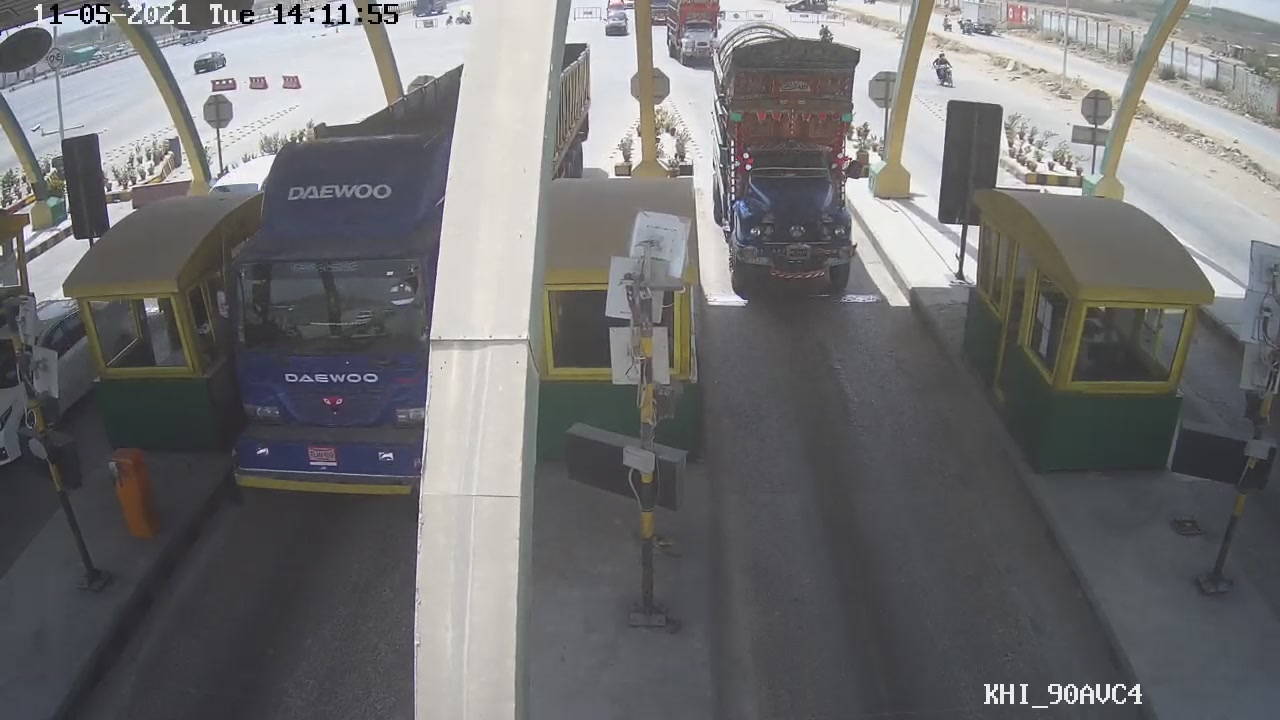F5: (705, 16, 877, 310)
